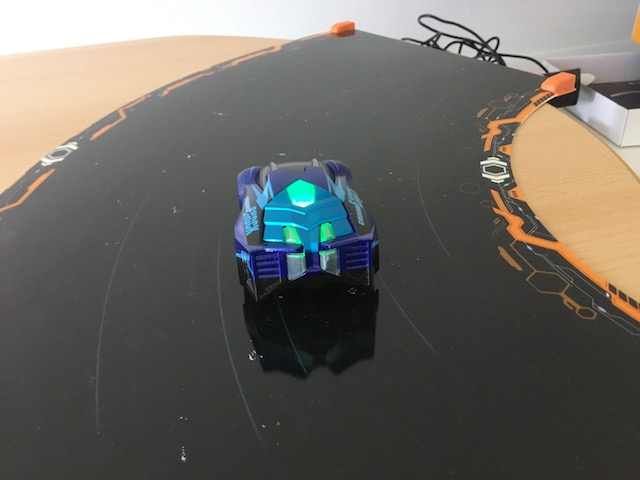car-blue: (232, 153, 383, 308)
